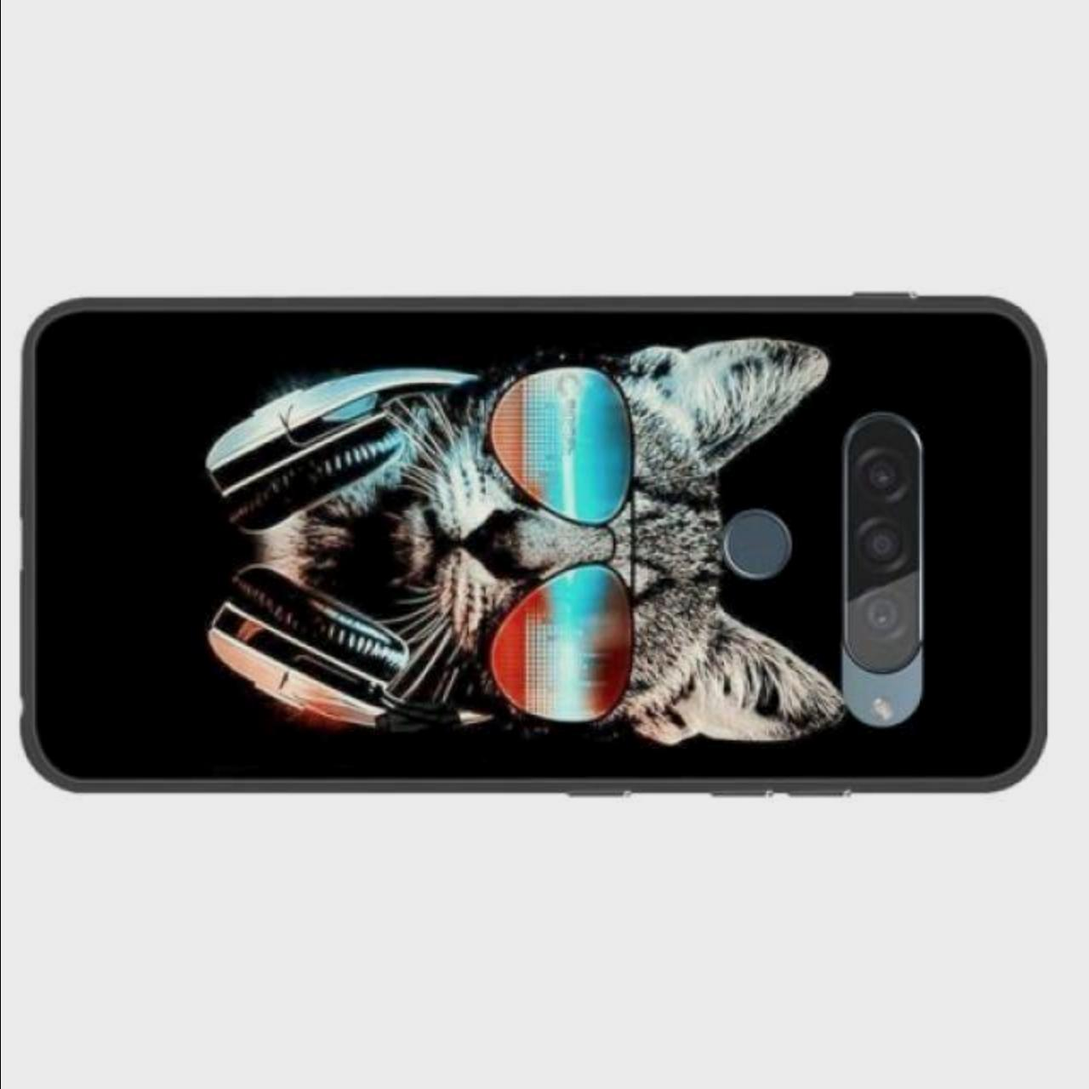phone: (17, 282, 1057, 800)
